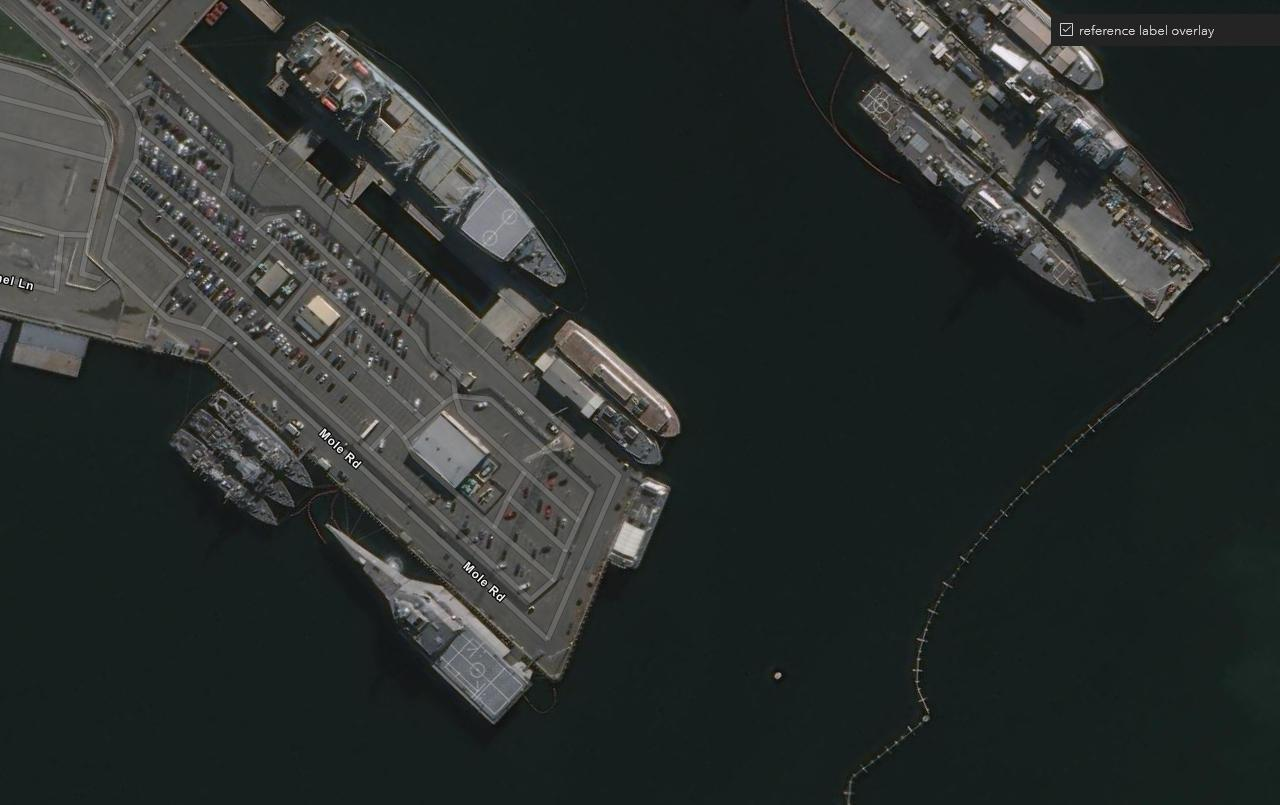fregate: (856, 76, 1098, 307)
littoral combat ship: (313, 509, 533, 737)
supply: (273, 11, 577, 296)
